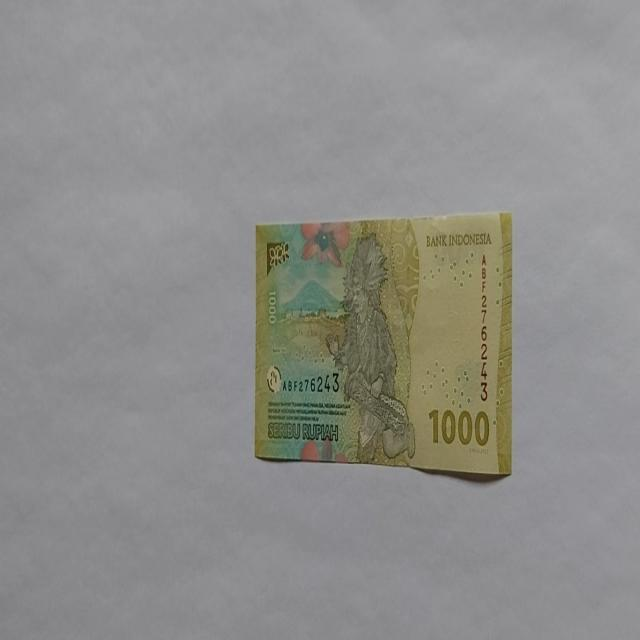seribu rupiah kertas: (253, 210, 513, 478)
